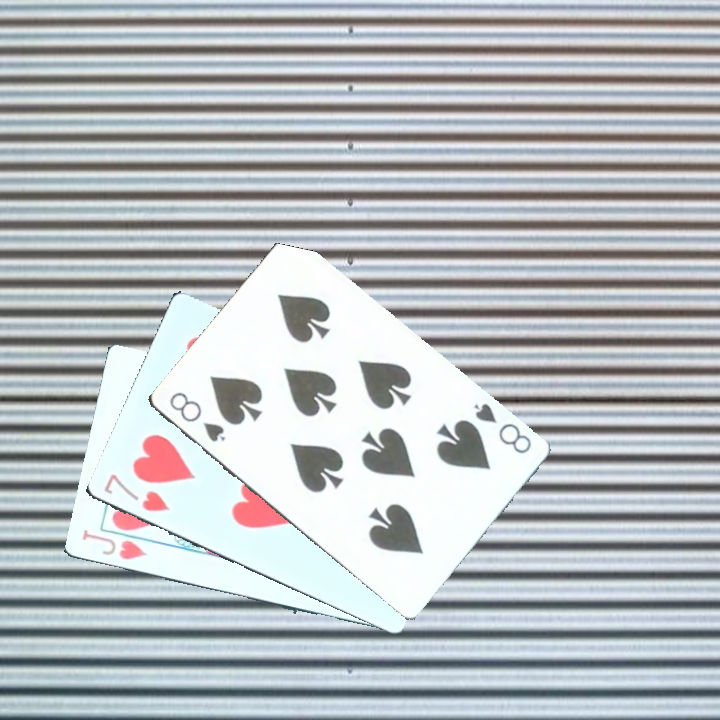7h: (100, 469, 173, 514)
8s: (470, 399, 535, 457), (165, 387, 228, 445)
Jh: (78, 525, 160, 562)
